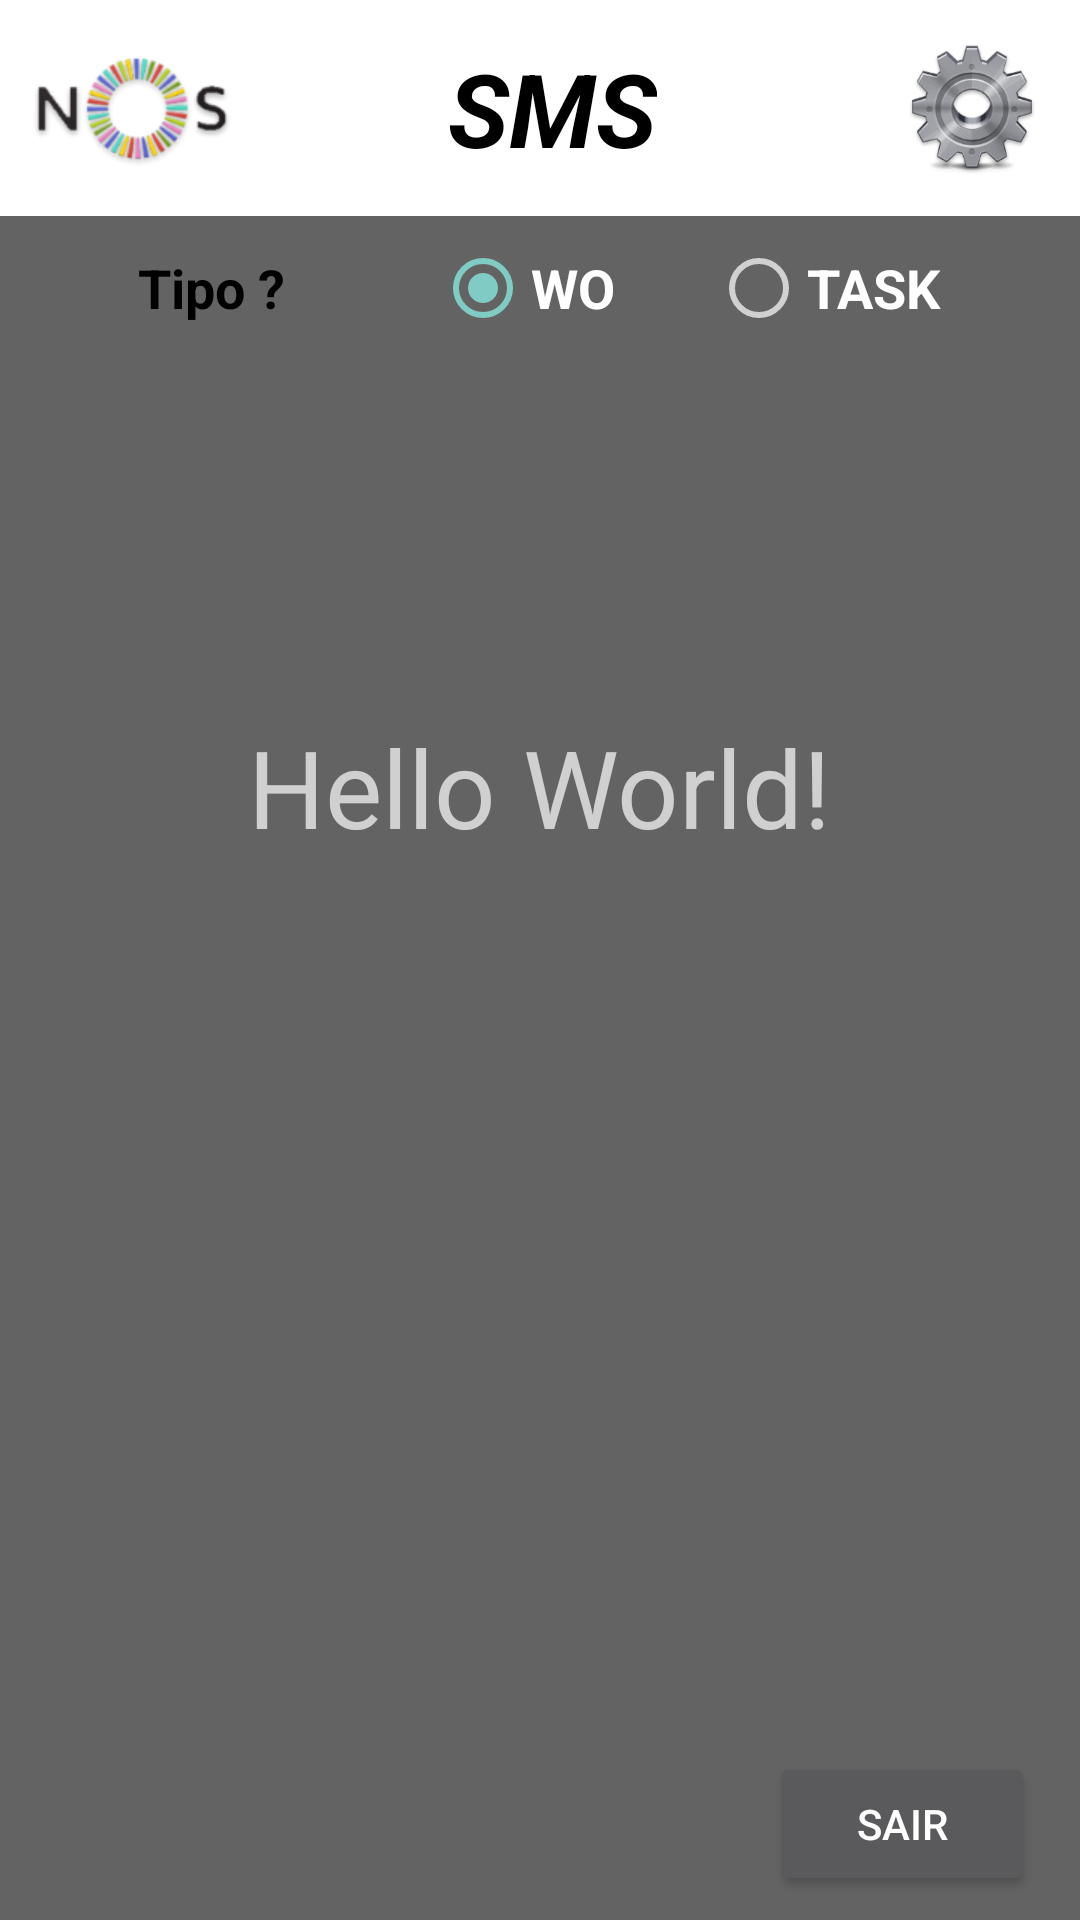

Icon bounding boxes for this 1080px×1920px phone screenshot, format (left=x1, top=y1, right=x2, bottom=y2):
Configurar: (left=911, top=45, right=1033, bottom=172)
